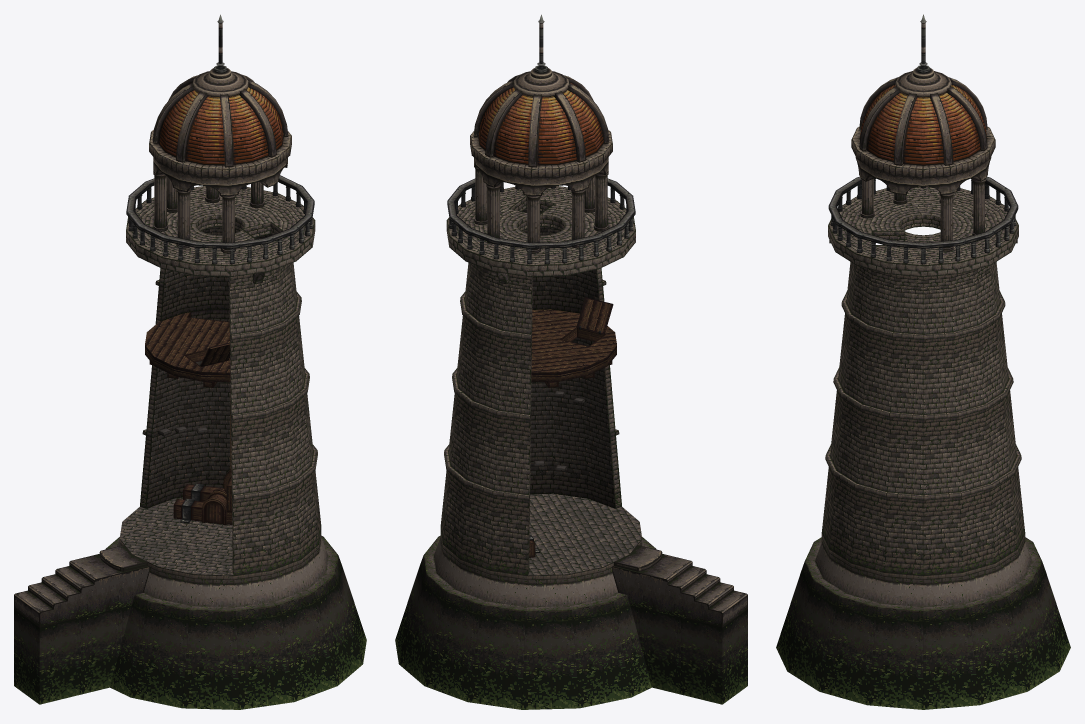
Rendered from EnvBdgMD_Sea_Lighthouse_Snow.FBX.
3 views of the same model, side by side, from view 1: azimuth 30°, elevation 25°; view 2: azimuth 150°, elevation 25°; view 3: azimuth 270°, elevation 25° (orthographic).
Visible parts, largest first — view 1: EnvBdgMD_Sea_Lighthouse_Snow; view 2: EnvBdgMD_Sea_Lighthouse_Snow; view 3: EnvBdgMD_Sea_Lighthouse_Snow.
Boxes of the visible parts, x1,y1,x2,y2 form: EnvBdgMD_Sea_Lighthouse_Snow: [14, 14, 366, 709]; EnvBdgMD_Sea_Lighthouse_Snow: [395, 14, 747, 709]; EnvBdgMD_Sea_Lighthouse_Snow: [776, 14, 1070, 709].
Bounding box in the file's own units: 1751 × 3300 × 1392.
1 material, 1 textured.
